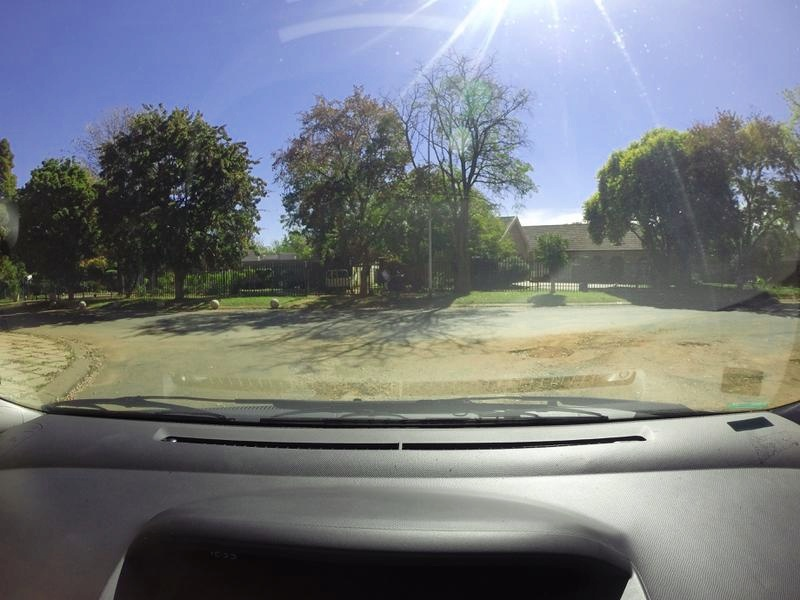pothole: (511, 340, 587, 371), (676, 335, 713, 348)
